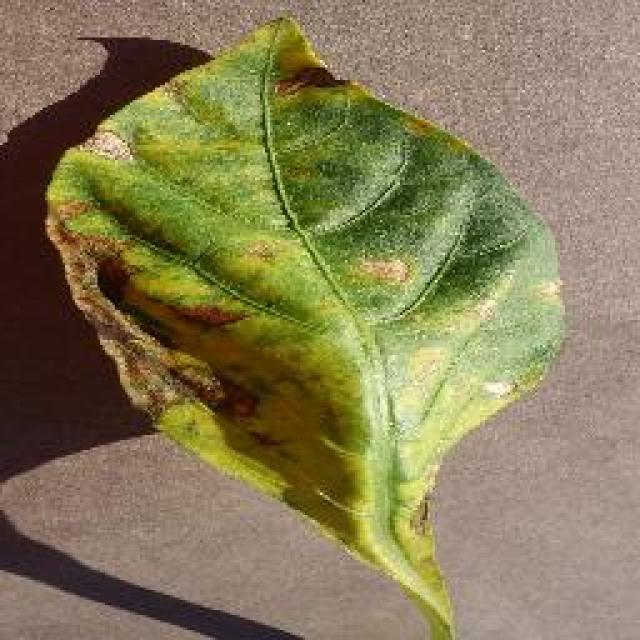Chilli_Bacterial_Spot: (40, 12, 570, 638), (270, 62, 342, 100), (75, 125, 135, 165), (352, 250, 410, 288), (215, 383, 263, 425), (90, 250, 130, 300), (403, 492, 435, 540)
